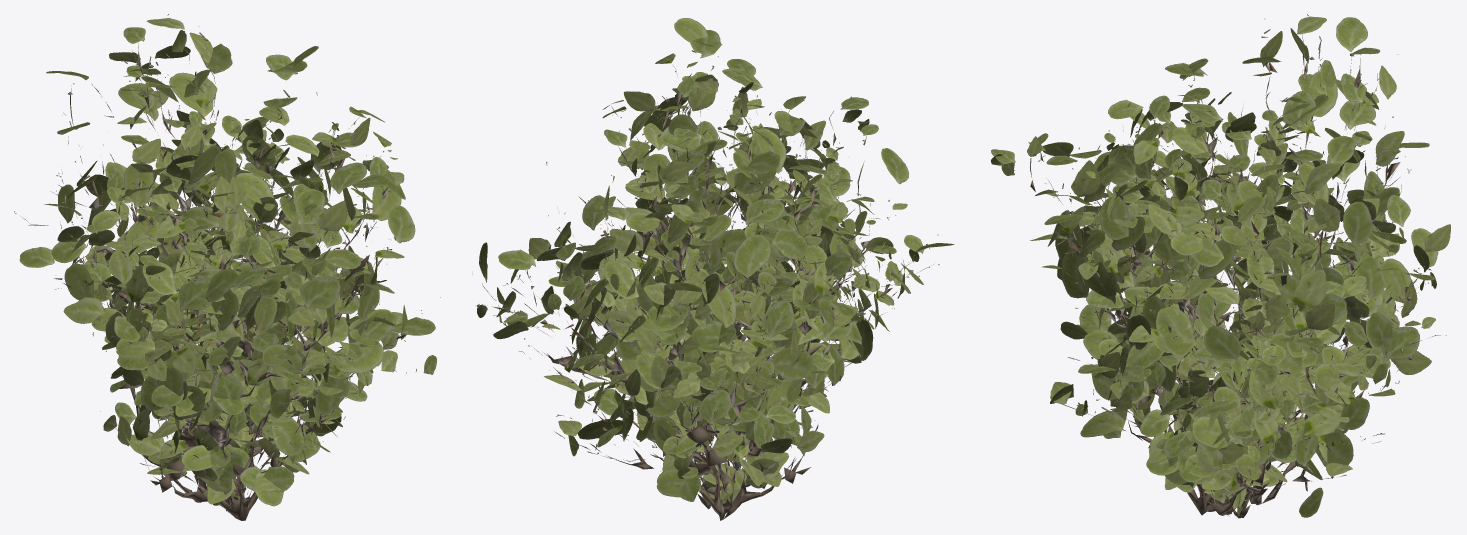
Rendered from searsia-lucida.glb.
3 renders of one model, left to right at view 1: azimuth 30°, elevation 25°; view 2: azimuth 150°, elevation 25°; view 3: azimuth 270°, elevation 25°, orthographic. The views are drawn at different scales.
Visible parts, largest first — view 1: searsia_lucida_a_LOD0, searsia_lucida_b_LOD0, searsia_lucida_c_LOD0, searsia_lucida_d_LOD0, searsia_lucida_e_LOD0, searsia_lucida_f_LOD0; view 2: searsia_lucida_a_LOD0, searsia_lucida_b_LOD0, searsia_lucida_c_LOD0, searsia_lucida_d_LOD0, searsia_lucida_e_LOD0, searsia_lucida_f_LOD0; view 3: searsia_lucida_a_LOD0, searsia_lucida_b_LOD0, searsia_lucida_c_LOD0, searsia_lucida_d_LOD0, searsia_lucida_e_LOD0, searsia_lucida_f_LOD0.
Part boxes in pixels (x1=…): searsia_lucida_a_LOD0: x1=14, y1=14, x2=436, y2=502; searsia_lucida_b_LOD0: x1=86, y1=107, x2=404, y2=520; searsia_lucida_c_LOD0: x1=102, y1=176, x2=440, y2=505; searsia_lucida_d_LOD0: x1=104, y1=224, x2=367, y2=493; searsia_lucida_e_LOD0: x1=126, y1=330, x2=330, y2=511; searsia_lucida_f_LOD0: x1=167, y1=365, x2=296, y2=509; searsia_lucida_a_LOD0: x1=472, y1=18, x2=954, y2=520; searsia_lucida_b_LOD0: x1=548, y1=82, x2=880, y2=488; searsia_lucida_c_LOD0: x1=582, y1=170, x2=924, y2=501; searsia_lucida_d_LOD0: x1=610, y1=232, x2=822, y2=509; searsia_lucida_e_LOD0: x1=628, y1=352, x2=815, y2=496; searsia_lucida_f_LOD0: x1=662, y1=419, x2=786, y2=502; searsia_lucida_a_LOD0: x1=991, y1=14, x2=1450, y2=517; searsia_lucida_b_LOD0: x1=1050, y1=85, x2=1410, y2=515; searsia_lucida_c_LOD0: x1=1078, y1=141, x2=1381, y2=515; searsia_lucida_d_LOD0: x1=1117, y1=215, x2=1342, y2=518; searsia_lucida_e_LOD0: x1=1164, y1=284, x2=1290, y2=514; searsia_lucida_f_LOD0: x1=1180, y1=386, x2=1287, y2=504.
Size of the model in its own units: 1.81 by 2.28 by 1.96.
Materials: 21 (21 with a texture image).
